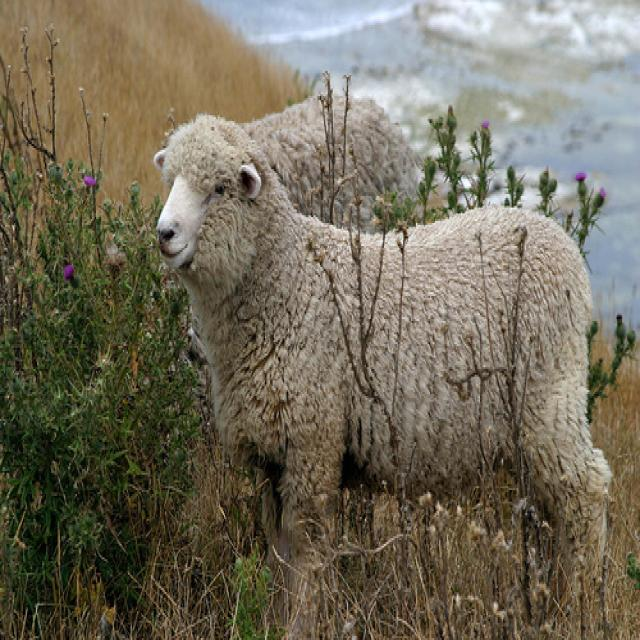sheep: (152, 111, 613, 599), (238, 91, 421, 230)
